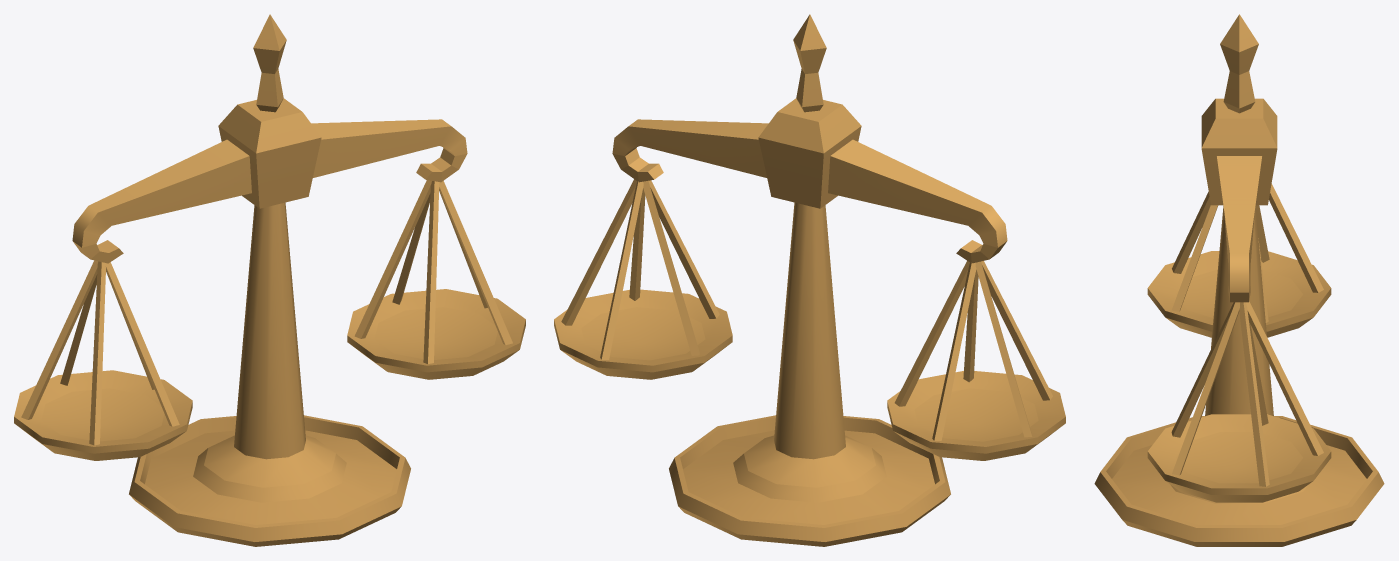
File: BalanceScale.fbx
3 renders of one model, left to right at view 1: azimuth 30°, elevation 25°; view 2: azimuth 150°, elevation 25°; view 3: azimuth 270°, elevation 25°, orthographic.
Visible parts, largest first — view 1: BalanceScale; view 2: BalanceScale; view 3: BalanceScale.
Part boxes in pixels (x1,y1,x2,y2): BalanceScale: (14, 14, 525, 546); BalanceScale: (554, 14, 1065, 546); BalanceScale: (1094, 14, 1384, 546).
Size of the model in its own units: 63.61 by 59.71 by 32.89.
